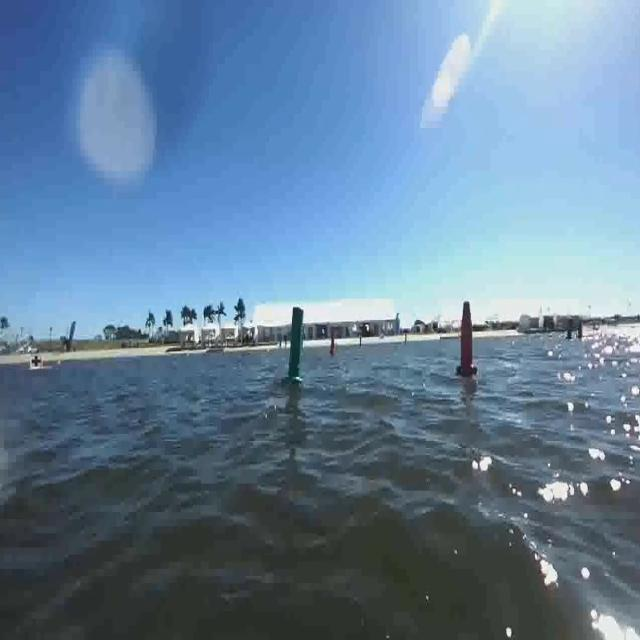green-column-buoy: (283, 305, 308, 387)
red-column-buoy: (456, 300, 479, 378), (329, 330, 337, 357)
